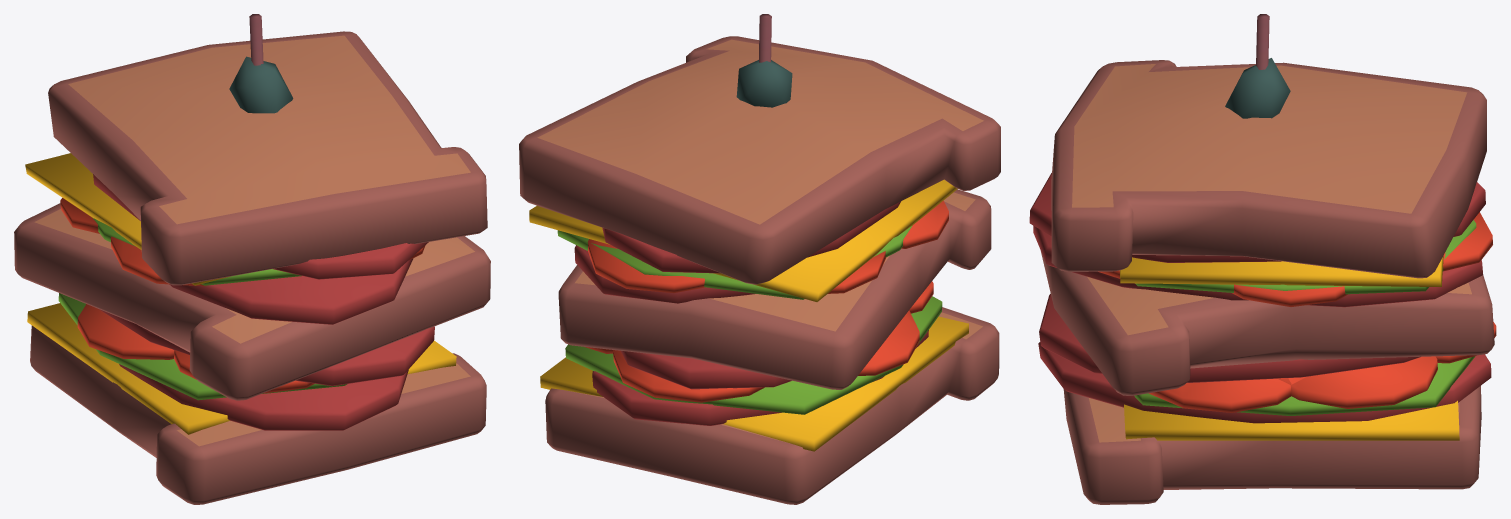
Rendered from Tower Sandwich.fbx.
3 renders of one model, left to right at view 1: azimuth 30°, elevation 25°; view 2: azimuth 150°, elevation 25°; view 3: azimuth 270°, elevation 25°, orthographic. The views are drawn at different scales.
Parts seen in each view (by area): view 1: Tower Sandwich; view 2: Tower Sandwich; view 3: Tower Sandwich.
Boxes of the visible parts, x1,y1,x2,y2 form: Tower Sandwich: (14, 14, 490, 504); Tower Sandwich: (519, 14, 1000, 504); Tower Sandwich: (1029, 14, 1496, 504).
Bounding box in the file's own units: 29.19 × 32.31 × 33.09.
